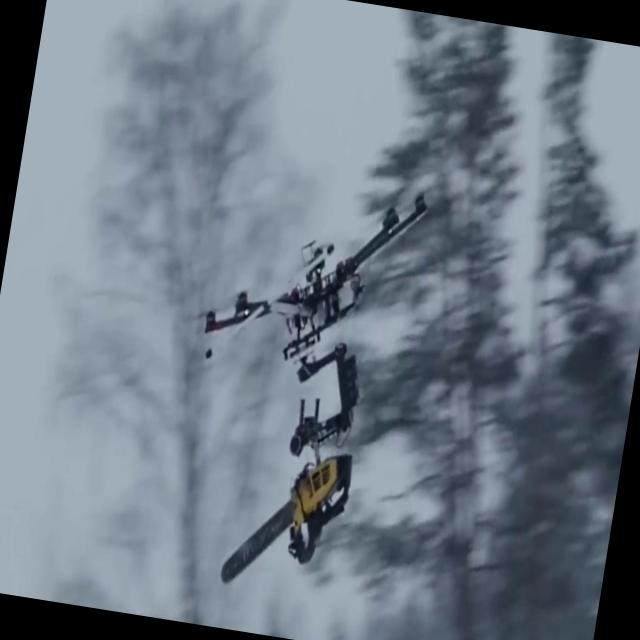drone: (164, 156, 450, 474)
